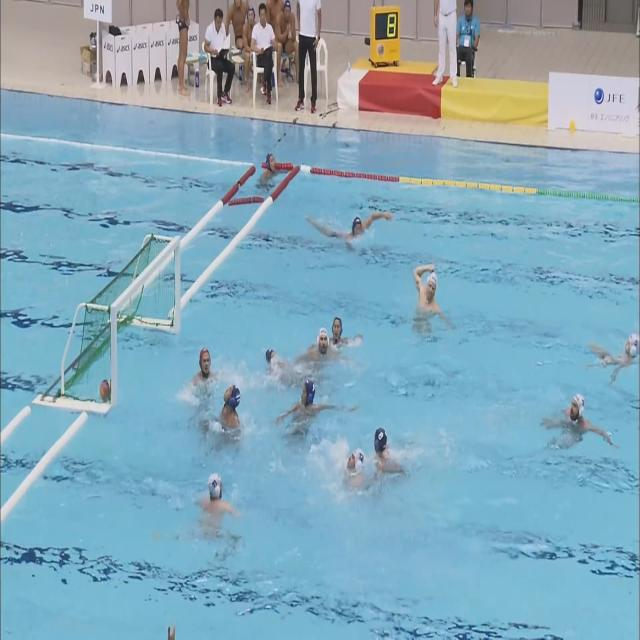ball: (100, 378, 110, 402)
